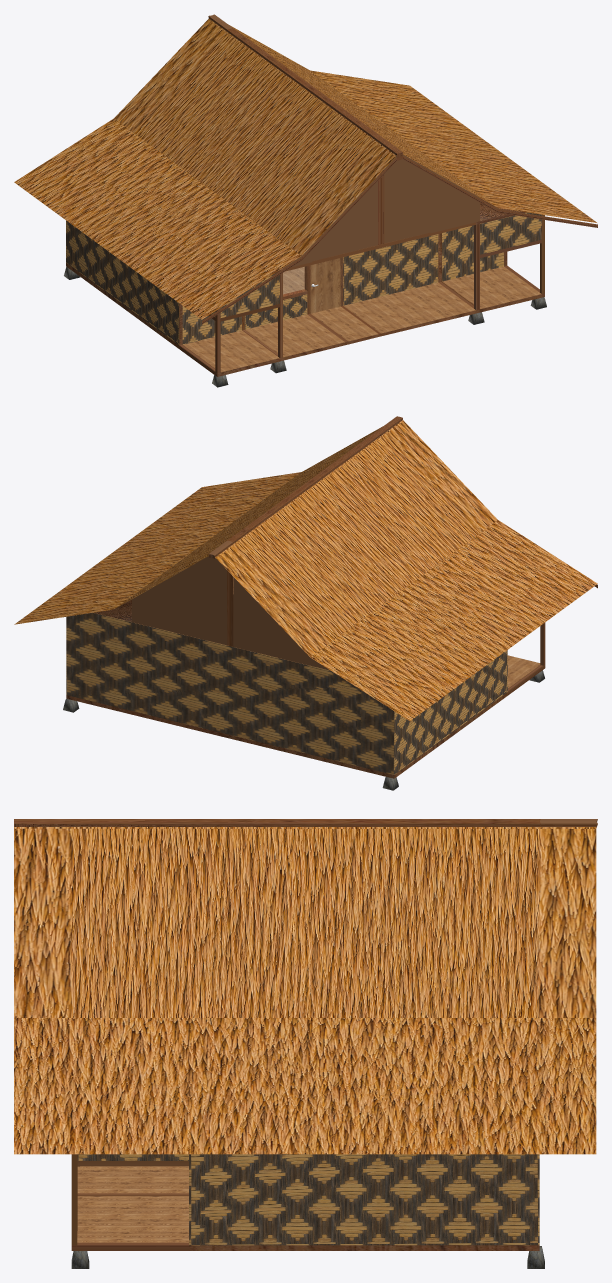
File: house-sundanese.glb
3 views of the same model, one above another, from view 1: azimuth 30°, elevation 25°; view 2: azimuth 150°, elevation 25°; view 3: azimuth 270°, elevation 25° (orthographic). The views are drawn at different scales.
Parts seen in each view (by area): view 1: Cube.002_7, dinding.001_4, Cube.001_6, lantai_0, rangka_2, pintu_8, rangka_jendela_1; view 2: Cube.002_7, dinding.001_4, Cube.001_6, rangka_2, lantai_0; view 3: Cube.002_7, dinding.001_4, lantai_0, rangka_2, Cube.001_6.
Part boxes in pixels (box(x1,y1,x2,y2)): Cube.002_7: box(14, 19, 596, 319); dinding.001_4: box(66, 212, 541, 344); Cube.001_6: box(202, 14, 597, 324); lantai_0: box(183, 266, 541, 372); rangka_2: box(66, 211, 544, 376); pintu_8: box(310, 258, 340, 313); rangka_jendela_1: box(242, 257, 343, 330); Cube.002_7: box(14, 420, 597, 720); dinding.001_4: box(66, 612, 507, 774); Cube.001_6: box(94, 416, 597, 670); rangka_2: box(66, 622, 545, 778); lantai_0: box(507, 655, 540, 688); Cube.002_7: box(14, 827, 596, 1154); dinding.001_4: box(77, 1154, 539, 1245); lantai_0: box(77, 1166, 188, 1242); rangka_2: box(71, 1154, 539, 1250); Cube.001_6: box(14, 819, 597, 827).
Size of the model in its own units: 12.08 by 6.07 by 9.96.
Materials: 8 (6 with a texture image).
